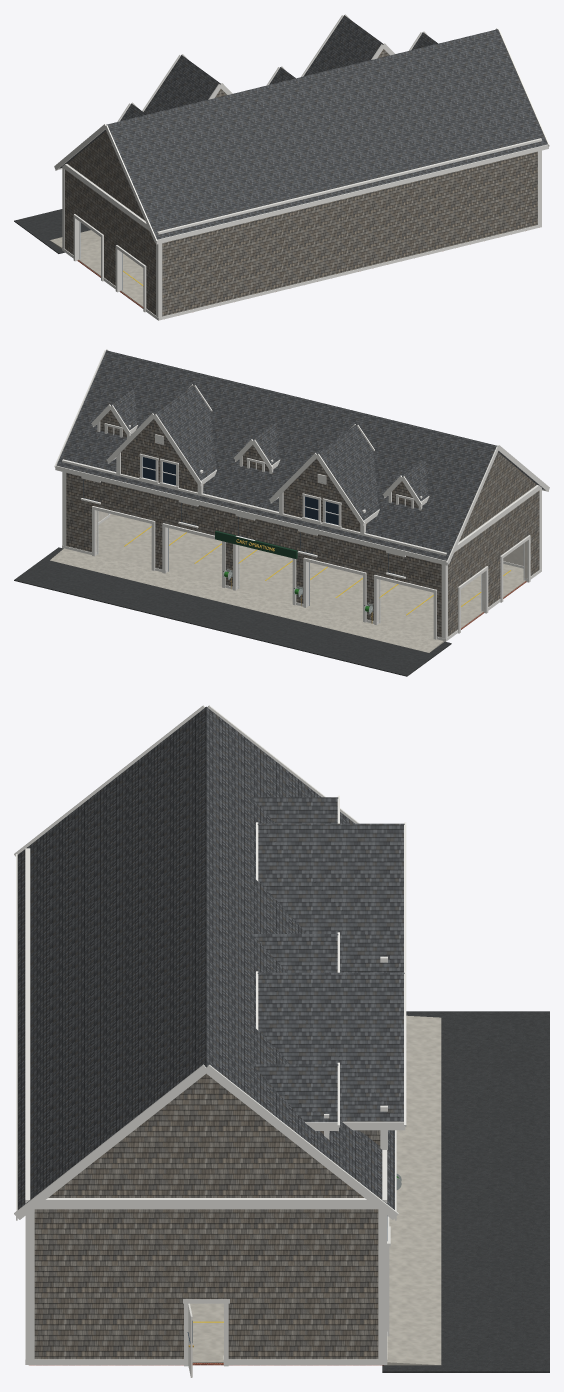
Rendered from cart_barn_l4.gltf.
3 views of the same model, one above another, from view 1: azimuth 30°, elevation 25°; view 2: azimuth 150°, elevation 25°; view 3: azimuth 270°, elevation 25° (orthographic). The views are drawn at different scales.
Visible parts, largest first — view 1: ROOF.003, WALLS_HIGH.003, BASE.003; view 2: ROOF.003, BASE.003, WALLS_HIGH.003; view 3: ROOF.003, BASE.003, WALLS_HIGH.003.
Part boxes in pixels (x1,y1,x2,y2): ROOF.003: [54, 14, 549, 244]; WALLS_HIGH.003: [62, 138, 541, 312]; BASE.003: [14, 209, 541, 320]; ROOF.003: [54, 349, 549, 565]; BASE.003: [14, 511, 541, 676]; WALLS_HIGH.003: [62, 459, 541, 639]; ROOF.003: [14, 705, 406, 1220]; BASE.003: [25, 1011, 549, 1372]; WALLS_HIGH.003: [25, 848, 401, 1377].
Size of the model in its own units: 29.71 by 11.58 by 18.25.
Materials: 20 (6 with a texture image).
